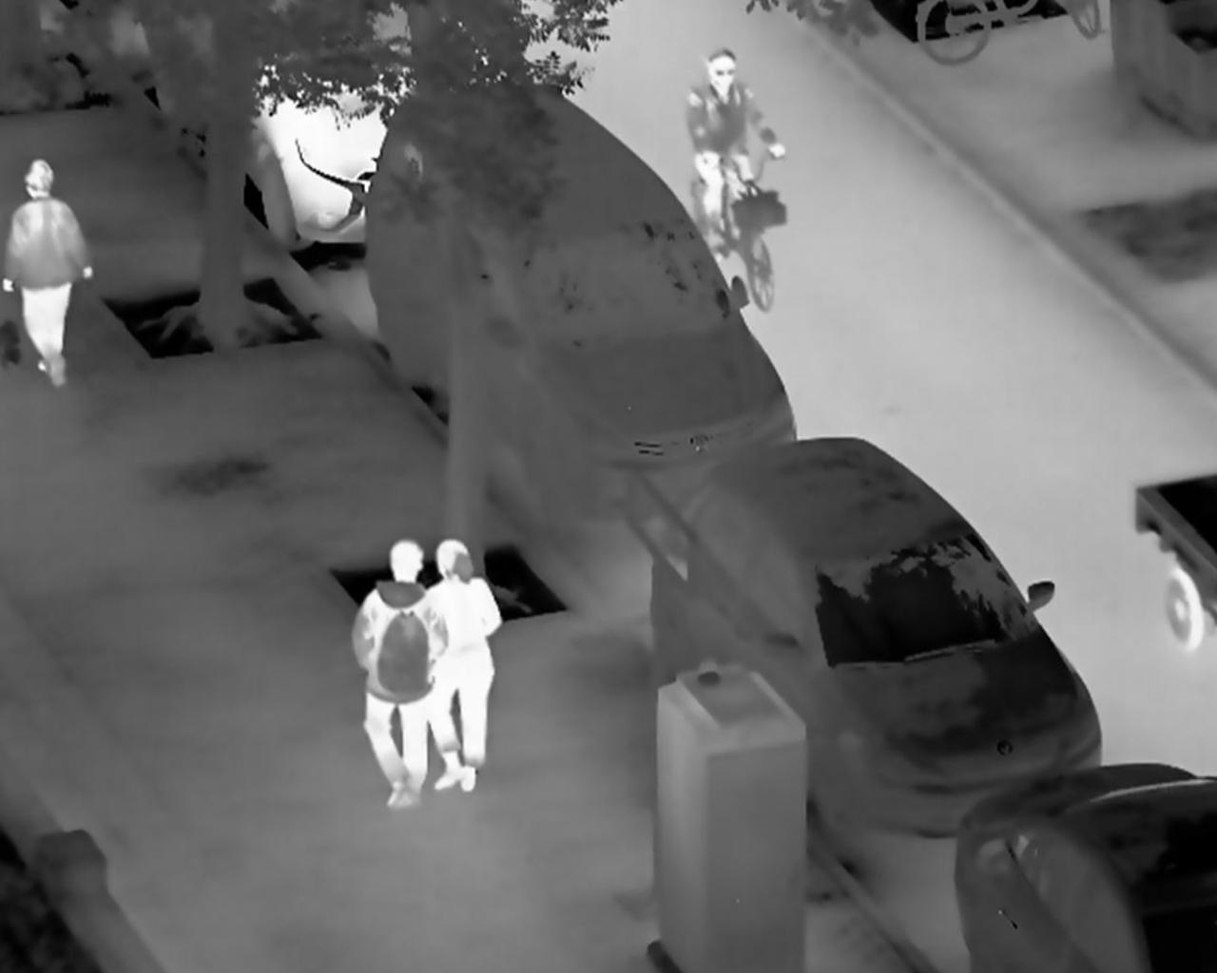person: (350, 539, 442, 811), (686, 47, 788, 256), (5, 154, 94, 388), (423, 540, 500, 794)
